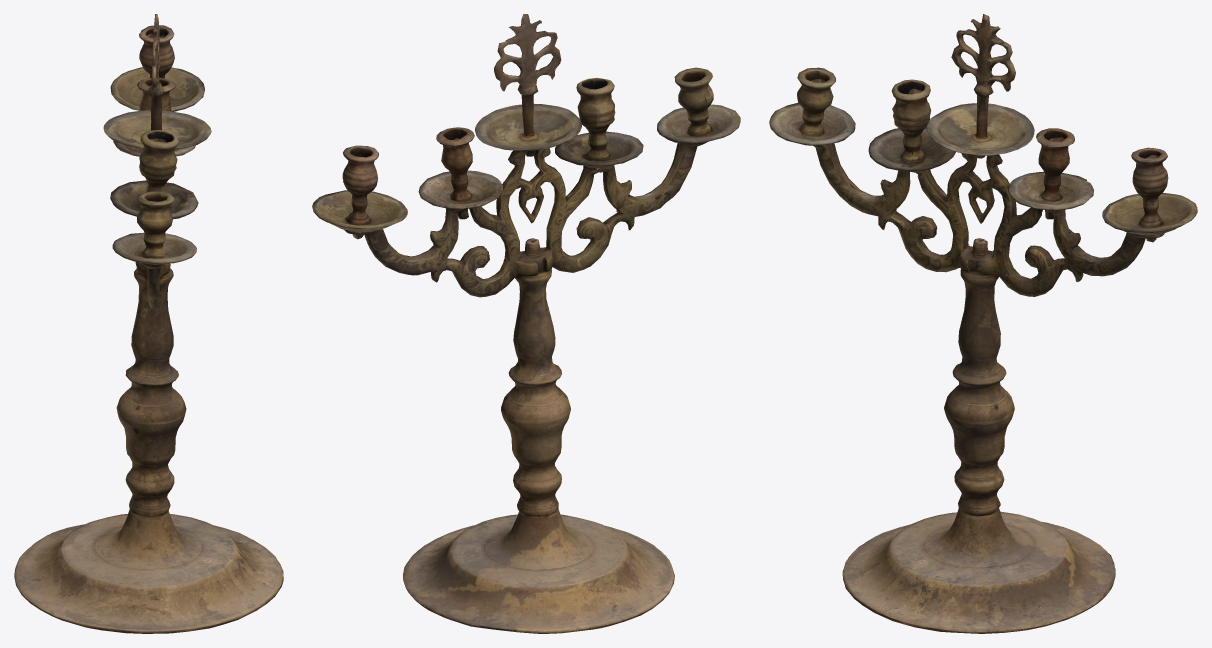
Rendered from candlestick_four.glb.
3 renders of one model, left to right at view 1: azimuth 30°, elevation 25°; view 2: azimuth 150°, elevation 25°; view 3: azimuth 270°, elevation 25°, orthographic.
Parts seen in each view (by area): view 1: Object_17, Object_11, Object_9, Object_6, Object_8, Object_2, Object_14, Object_3, Object_10, Object_13; view 2: Object_17, Object_11, Object_8, Object_9, Object_14, Object_6, Object_15, Object_2, Object_13, Object_12, Object_4, Object_10 (+3 smaller); view 3: Object_17, Object_11, Object_8, Object_9, Object_6, Object_2, Object_14, Object_15, Object_13, Object_12, Object_4, Object_10 (+3 smaller).
Boxes of the visible parts, x1=… form: Object_17: x1=14, y1=509, x2=282, y2=631; Object_11: x1=116, y1=261, x2=186, y2=517; Object_9: x1=110, y1=130, x2=198, y2=219; Object_6: x1=112, y1=191, x2=196, y2=265; Object_8: x1=110, y1=25, x2=204, y2=111; Object_2: x1=103, y1=110, x2=211, y2=149; Object_14: x1=113, y1=78, x2=195, y2=156; Object_3: x1=14, y1=517, x2=283, y2=633; Object_10: x1=148, y1=14, x2=163, y2=130; Object_13: x1=142, y1=47, x2=165, y2=301; Object_17: x1=403, y1=509, x2=673, y2=631; Object_11: x1=501, y1=238, x2=570, y2=518; Object_8: x1=312, y1=145, x2=407, y2=231; Object_9: x1=555, y1=78, x2=643, y2=168; Object_14: x1=418, y1=127, x2=503, y2=209; Object_6: x1=657, y1=67, x2=740, y2=143; Object_15: x1=446, y1=181, x2=521, y2=297; Object_2: x1=475, y1=103, x2=581, y2=150; Object_13: x1=547, y1=32, x2=709, y2=230; Object_12: x1=344, y1=208, x2=462, y2=282; Object_4: x1=504, y1=150, x2=600, y2=254; Object_10: x1=505, y1=14, x2=549, y2=135; Object_17: x1=843, y1=508, x2=1115, y2=632; Object_11: x1=944, y1=238, x2=1014, y2=516; Object_8: x1=1102, y1=147, x2=1197, y2=235; Object_9: x1=868, y1=79, x2=955, y2=171; Object_6: x1=769, y1=67, x2=855, y2=145; Object_2: x1=926, y1=103, x2=1034, y2=155; Object_14: x1=1007, y1=128, x2=1093, y2=210; Object_15: x1=992, y1=180, x2=1067, y2=296; Object_13: x1=814, y1=30, x2=966, y2=229; Object_12: x1=1049, y1=209, x2=1164, y2=282; Object_4: x1=914, y1=154, x2=1007, y2=258; Object_10: x1=962, y1=14, x2=1004, y2=137.
Bounding box in the file's own units: 16 × 34.13 × 23.34.
1 material, 1 textured.
